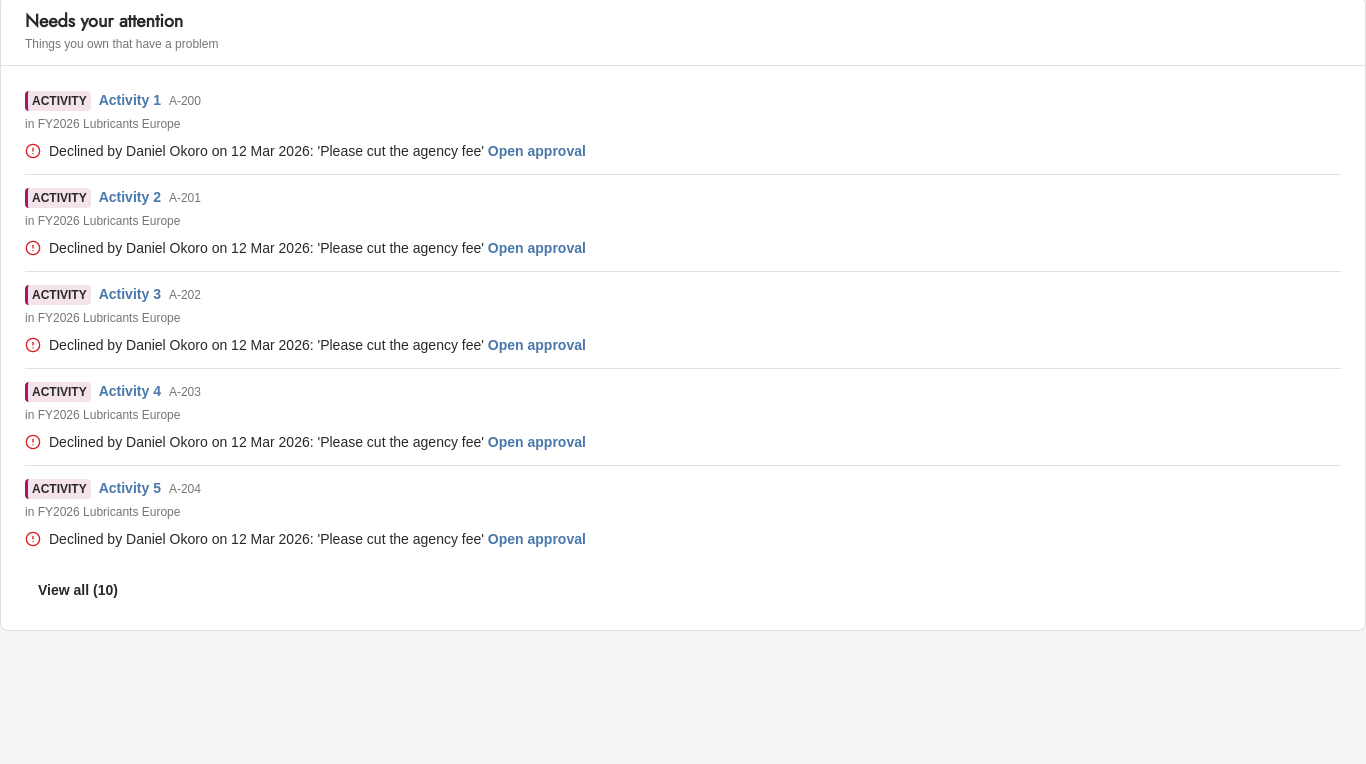
Scenario: AttentionCard › shows 5 items, as the card beside it, then all of them on "View all (n)" and fewer again (FR-012, design system §2.4 E)
expect the link "Activity 5" is shown: met, box [99, 478, 161, 499]
expect the link "Activity 6" is not shown: met
Click the button "View all (10)" at (78, 590), box [25, 574, 131, 606]
(page scrolled)
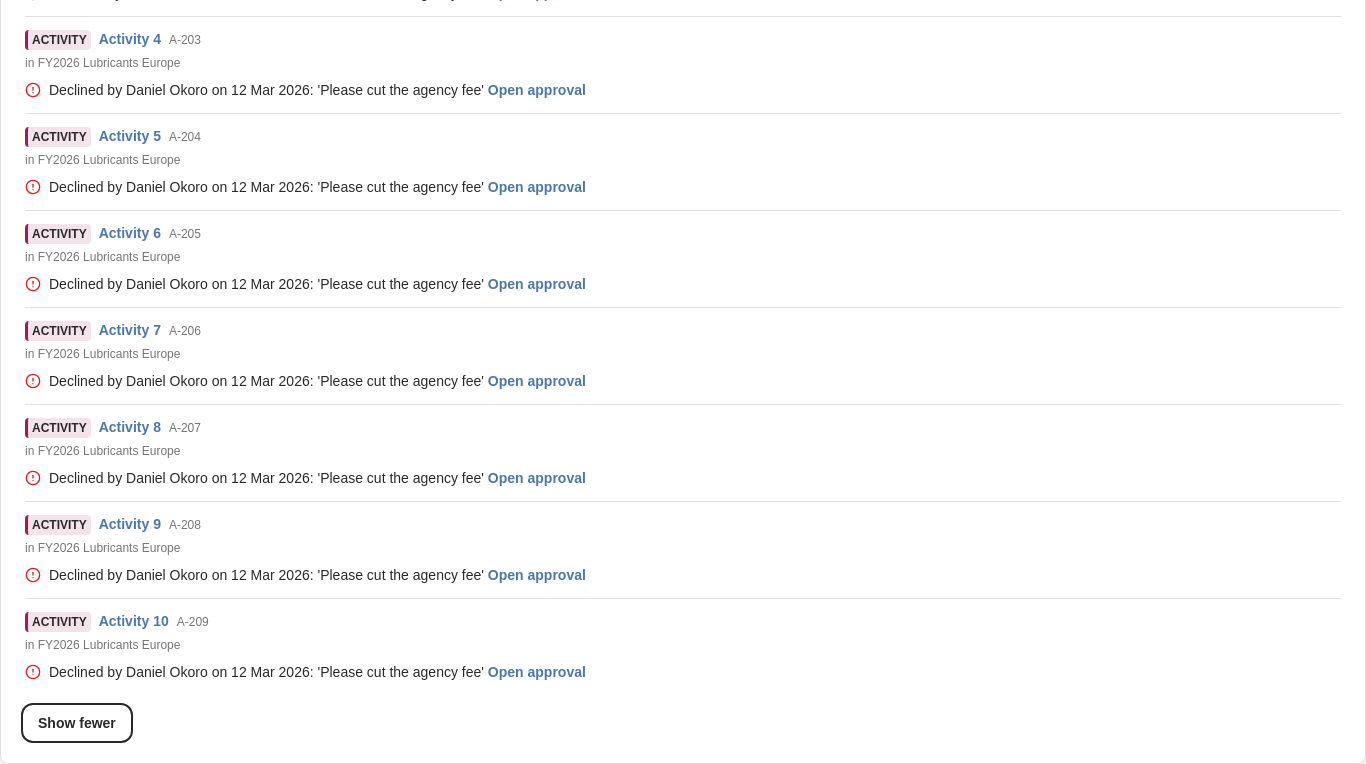
expect the link "Activity 10" is shown: met, box [99, 611, 169, 632]
Click the button "Show fewer" at (77, 723), box [25, 707, 129, 739]
(page scrolled)
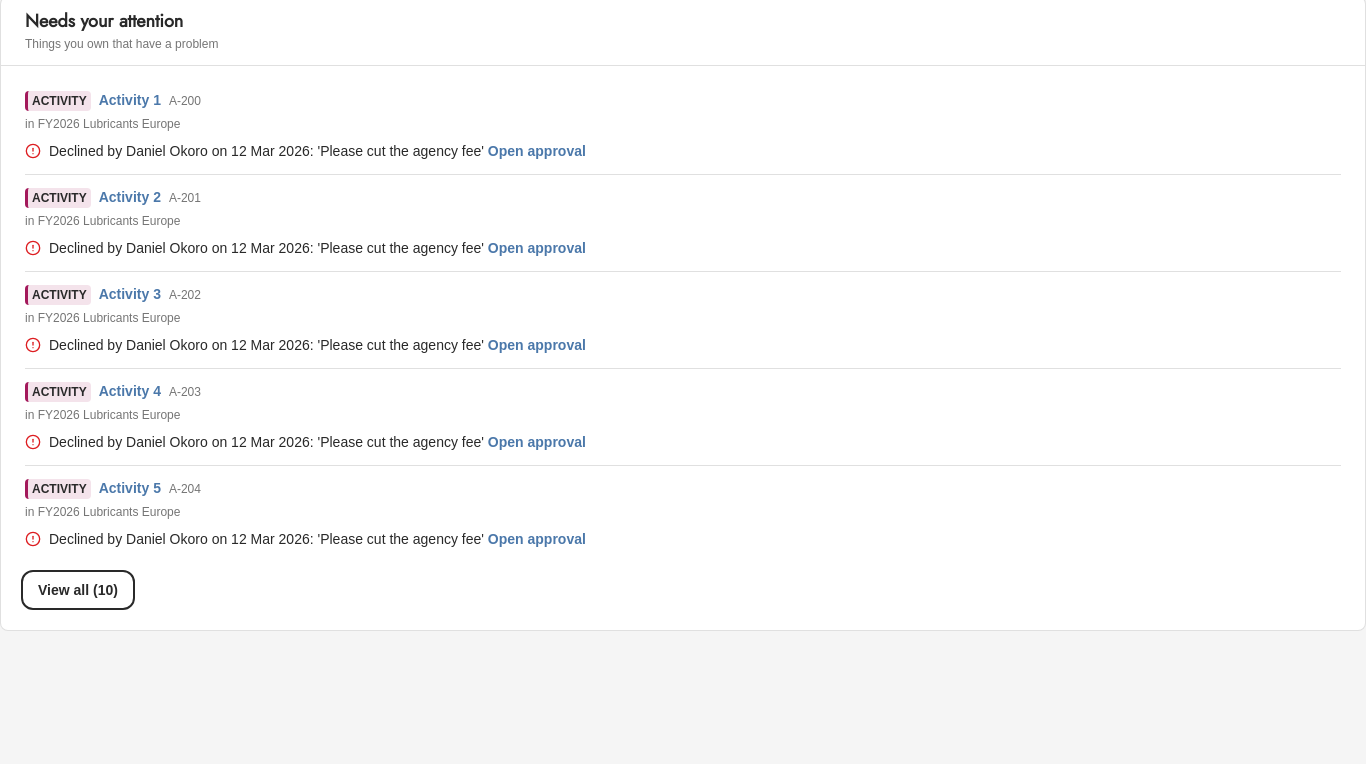
expect the link "Activity 6" is gone: met
